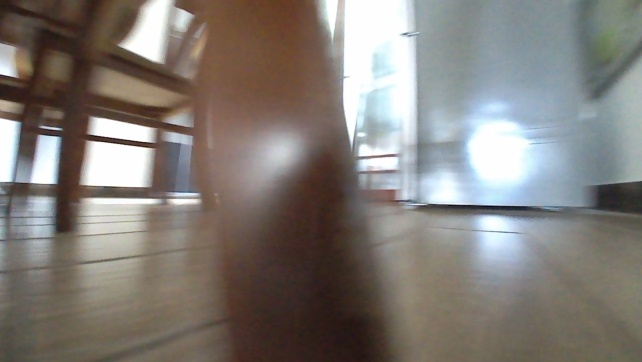dining_table1: (0, 0, 395, 361)
